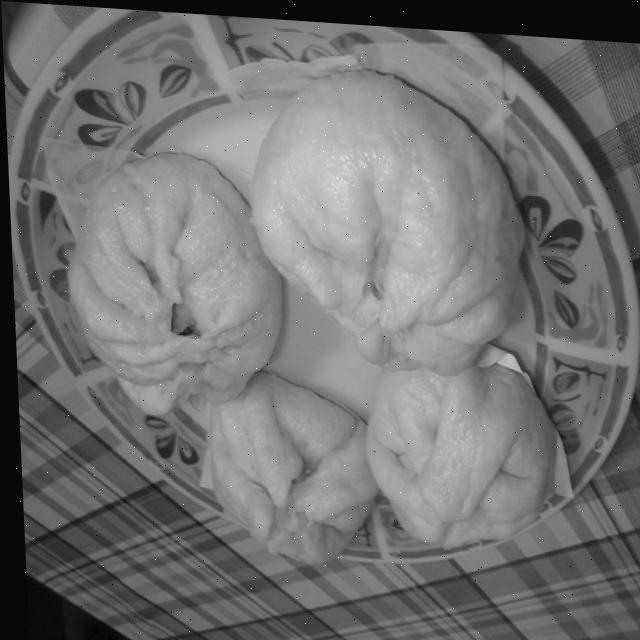带馅早点: (51, 41, 589, 580)
